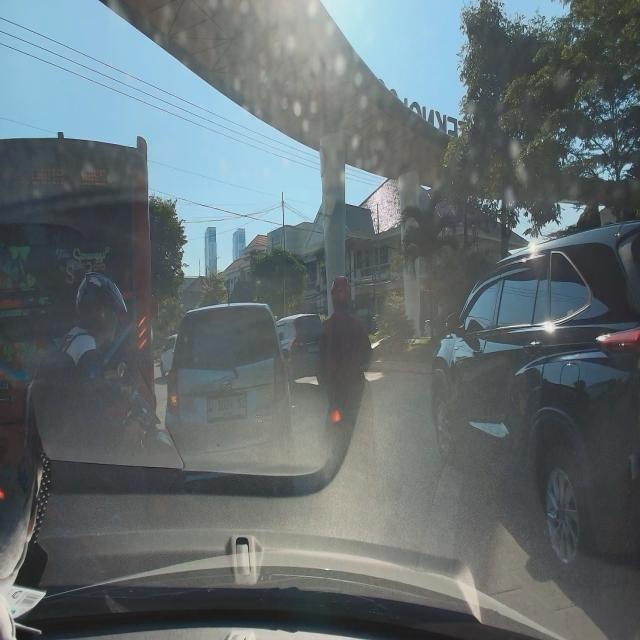bus: (0, 128, 160, 470)
car: (429, 209, 640, 582), (163, 293, 296, 483), (272, 307, 332, 388)
license-plate: (206, 393, 248, 420)
